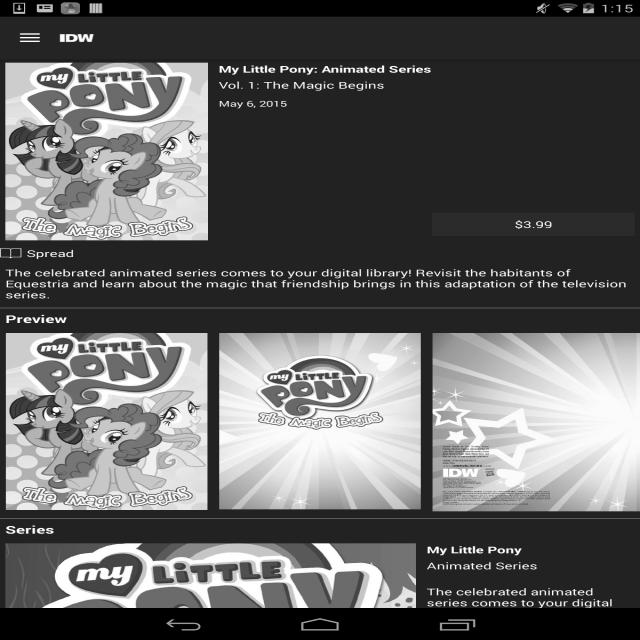Button: (432, 213, 635, 236)
ImageButton: (0, 30, 60, 46)
ImageView: (0, 59, 640, 608), (5, 543, 416, 640), (432, 332, 640, 511), (5, 63, 208, 240), (6, 333, 207, 510), (219, 333, 421, 509), (60, 27, 94, 49), (0, 248, 21, 258)
TextView: (5, 266, 635, 301), (426, 585, 634, 640), (5, 522, 635, 537), (5, 312, 635, 326), (218, 63, 634, 75), (218, 79, 634, 91), (218, 98, 634, 109), (426, 543, 634, 556), (426, 559, 634, 572), (27, 247, 74, 260)
